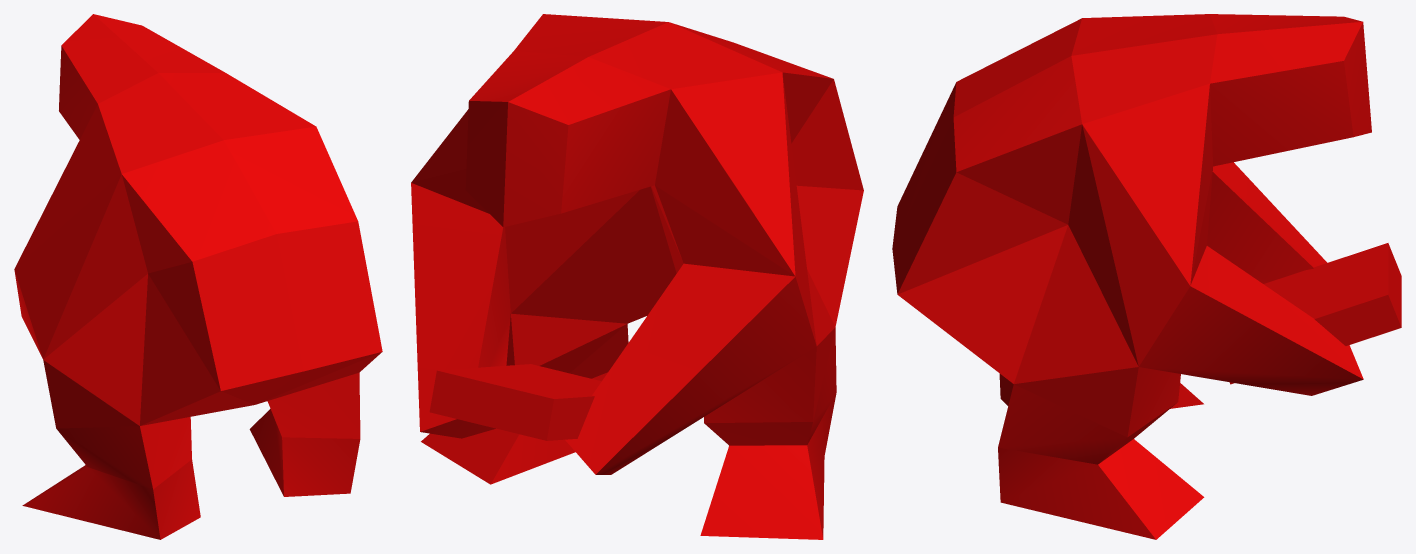
Rendered from dreamer_size.fbx.
3 renders of one model, left to right at view 1: azimuth 30°, elevation 25°; view 2: azimuth 150°, elevation 25°; view 3: azimuth 270°, elevation 25°, orthographic. The views are drawn at different scales.
Visible parts, largest first — view 1: dreamer; view 2: dreamer; view 3: dreamer.
Part boxes in pixels (left/top/right/bottom): dreamer: left=14, top=14, right=382, bottom=539; dreamer: left=411, top=14, right=863, bottom=539; dreamer: left=892, top=14, right=1401, bottom=539.
Size of the model in its own units: 13.34 by 14.95 by 16.08.
